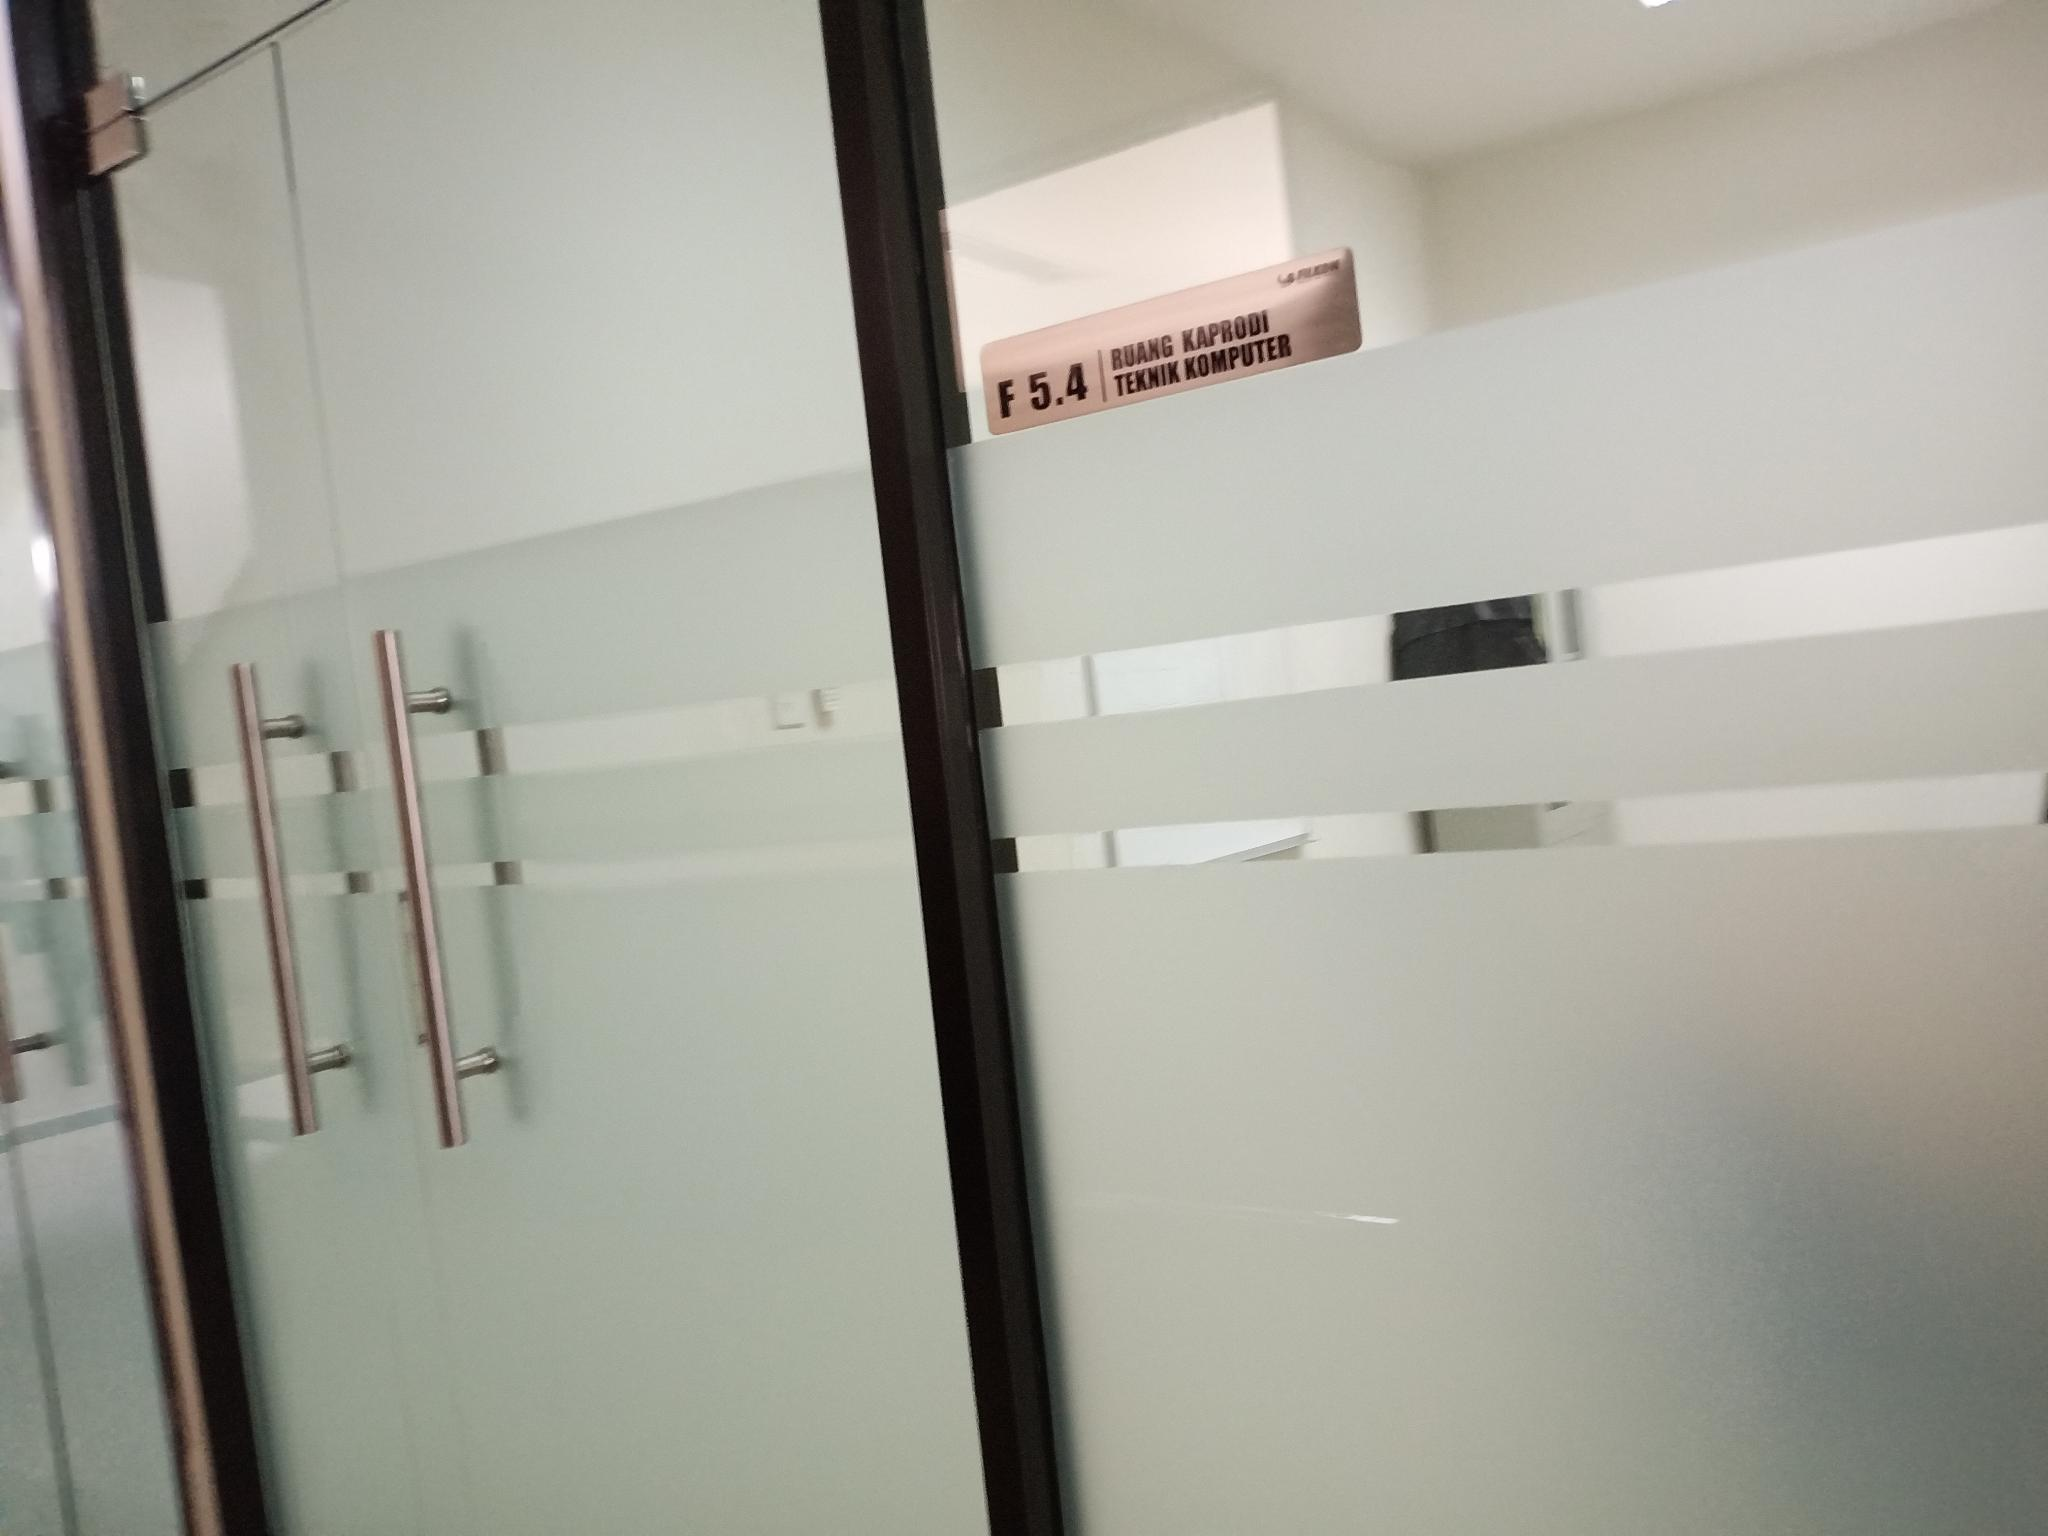plate: (977, 245, 1363, 437)
